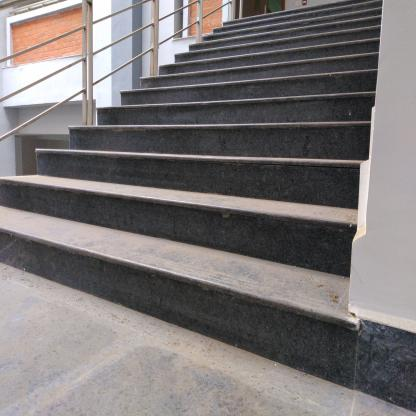stairs: (100, 104, 348, 354)
